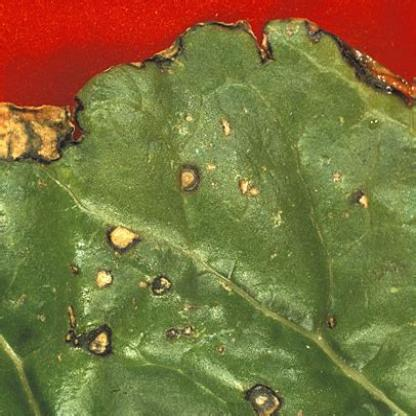black-spot: (42, 193, 213, 375), (225, 136, 396, 264)
